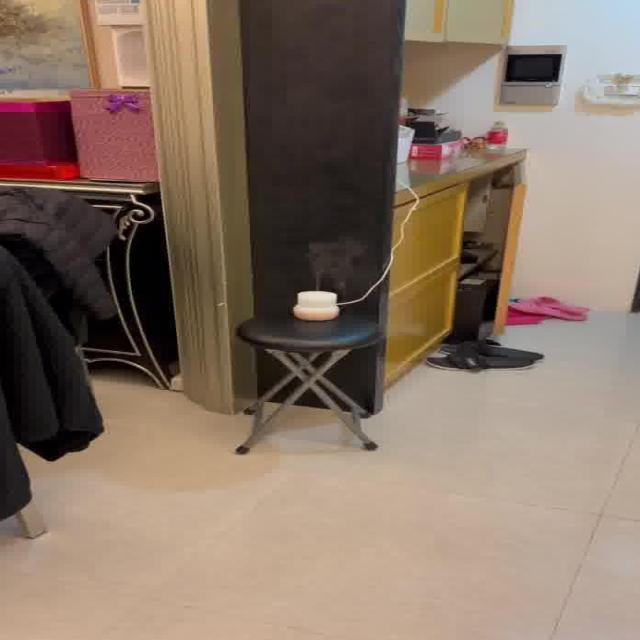fire: (302, 234, 369, 289)
